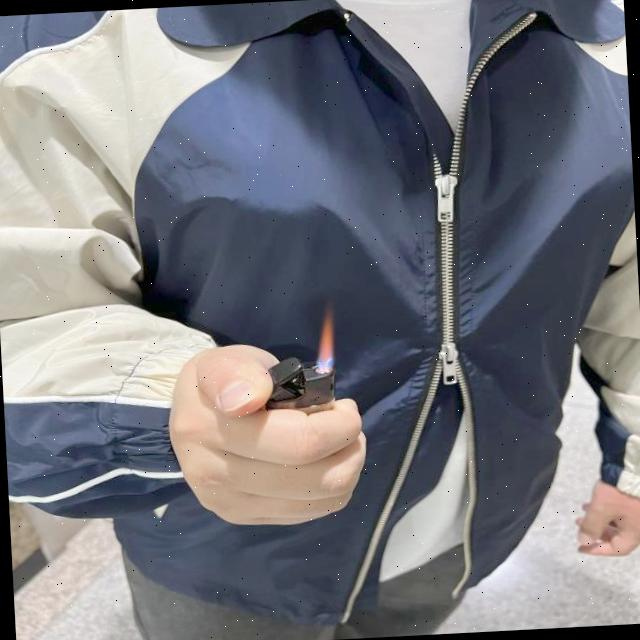fire: (312, 320, 336, 368)
